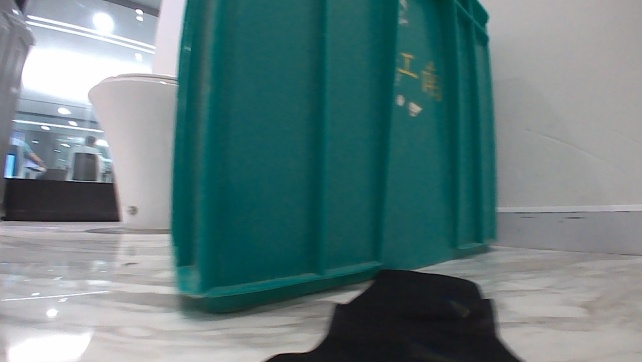socks: (263, 263, 521, 361)
toilet: (83, 66, 178, 232)
